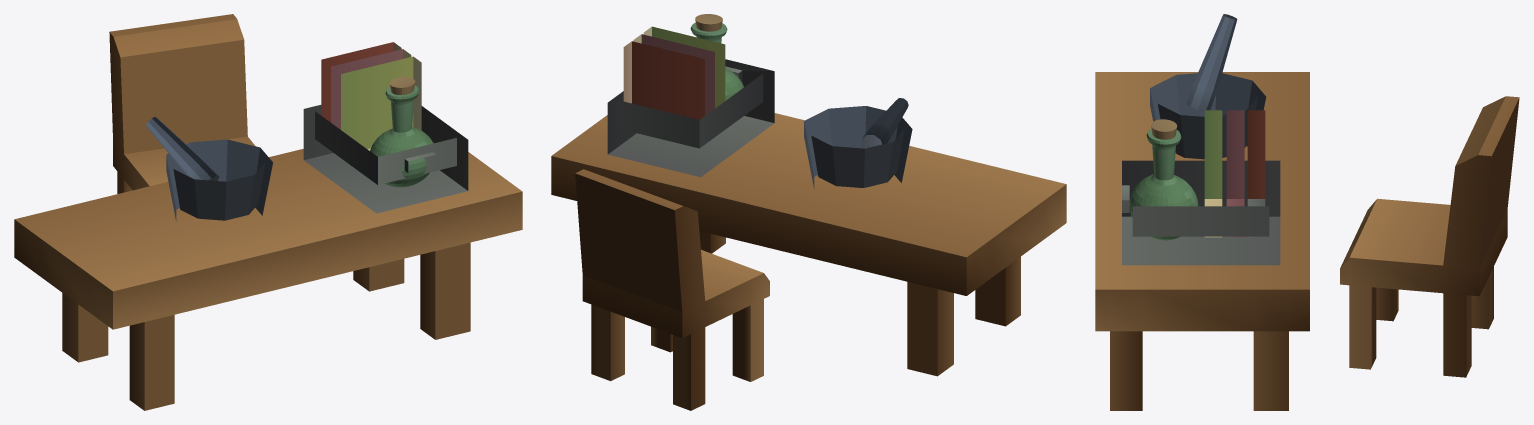
The model's file is meja_grind.glb.
3 views of the same model, side by side, from view 1: azimuth 30°, elevation 25°; view 2: azimuth 150°, elevation 25°; view 3: azimuth 270°, elevation 25° (orthographic). The views are drawn at different scales.
Parts seen in each view (by area): view 1: Sphere002; view 2: Sphere002; view 3: Sphere002.
Part boxes in pixels (x1=…): Sphere002: x1=14, y1=14, x2=522, y2=410; Sphere002: x1=551, y1=14, x2=1066, y2=410; Sphere002: x1=1095, y1=14, x2=1519, y2=410.
Bounding box in the file's own units: 1.09 × 0.6166 × 0.8975.
1 material, 1 textured.
